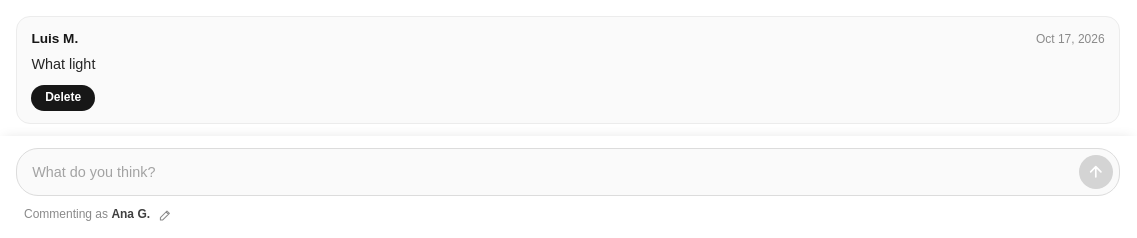
it: PhotoComments › lets the author delete their own comment
Click the button "Delete": (63, 98) [31, 85, 95, 111]
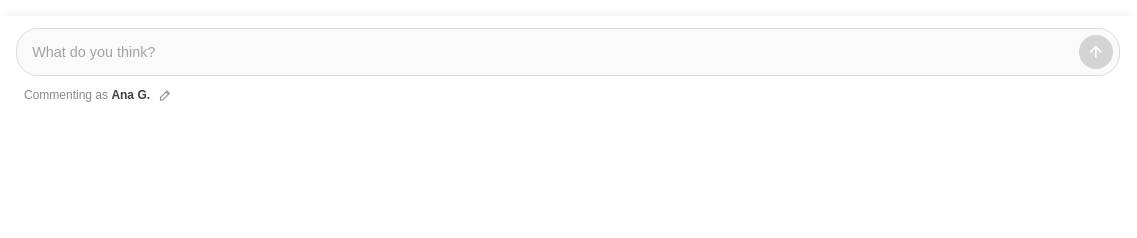
Check: the text "What light" is gone
